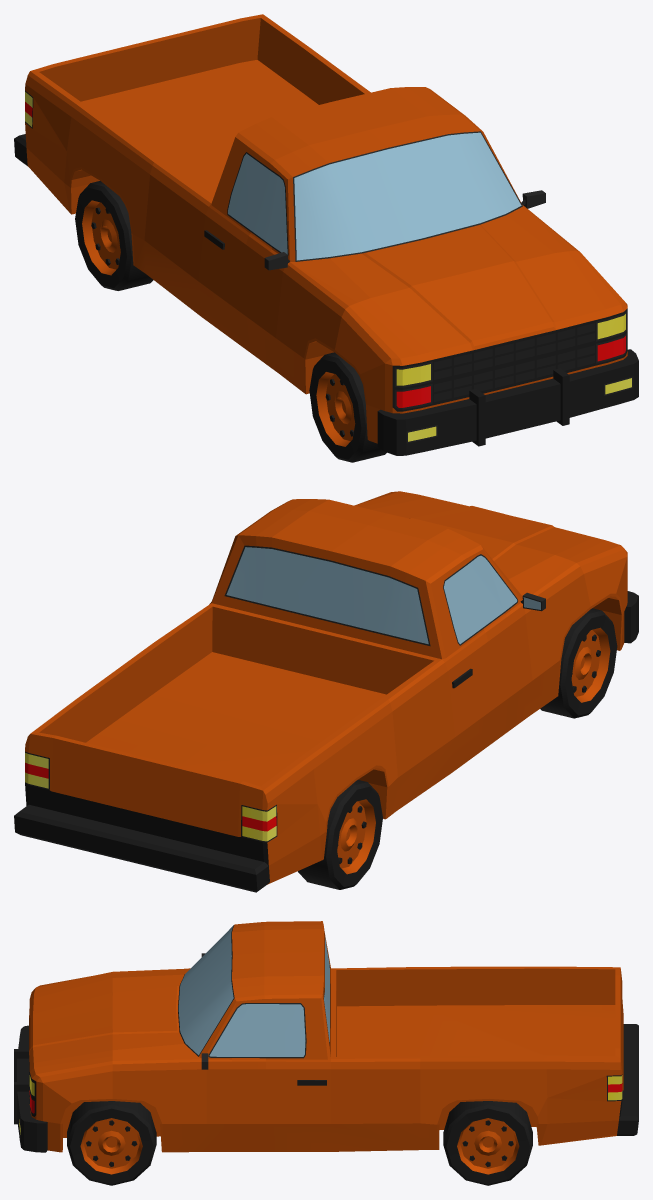
File: Pick Up_11.fbx
3 renders of one model, top to bottom at view 1: azimuth 30°, elevation 25°; view 2: azimuth 150°, elevation 25°; view 3: azimuth 270°, elevation 25°, orthographic. The views are drawn at different scales.
Parts seen in each view (by area): view 1: Pick Up_11 BR Tire; view 2: Pick Up_11 BR Tire; view 3: Pick Up_11 BR Tire.
Part boxes in pixels (bbox=[...]): Pick Up_11 BR Tire: bbox=[14, 14, 638, 462]; Pick Up_11 BR Tire: bbox=[14, 491, 638, 892]; Pick Up_11 BR Tire: bbox=[14, 921, 638, 1185].
Size of the model in its own units: 249 by 197 by 604.
Materials: 1 (1 with a texture image).
